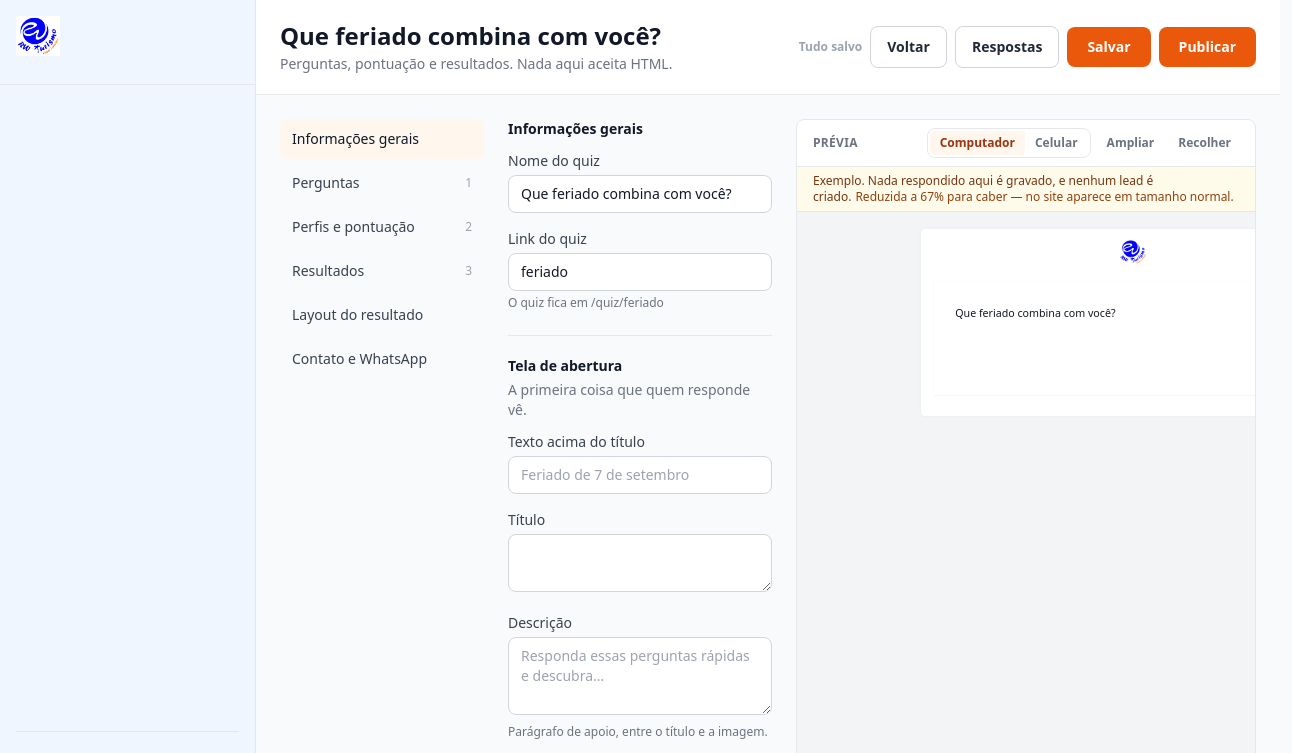
Test case: estados de salvamento › "Salvo" some quando a pessoa volta a editar
Expected: the button "Informações gerais" is shown, [280,119,484,159]
Replace the text in the field labelled "Nome do quiz" with "a" at (640, 194), box [508,175,772,213]
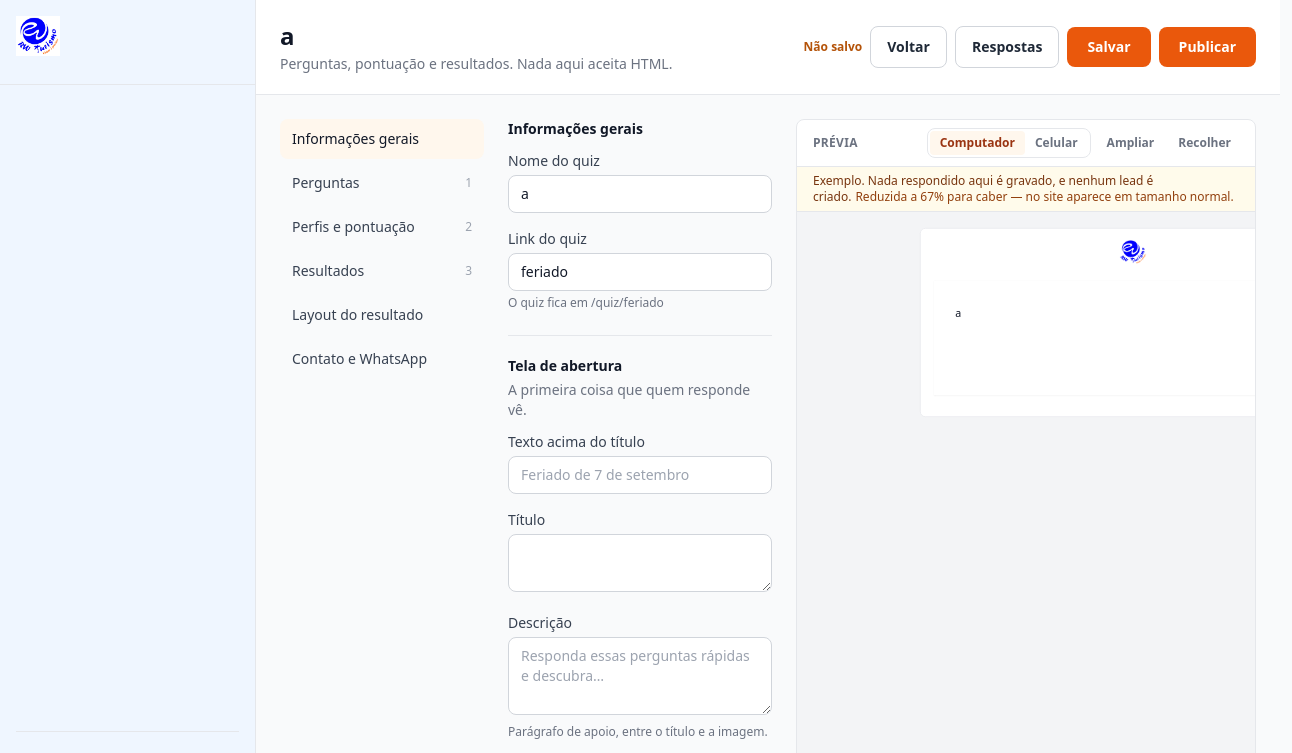
Click the button "Salvar" at (1109, 47), box [1067,27,1151,67]
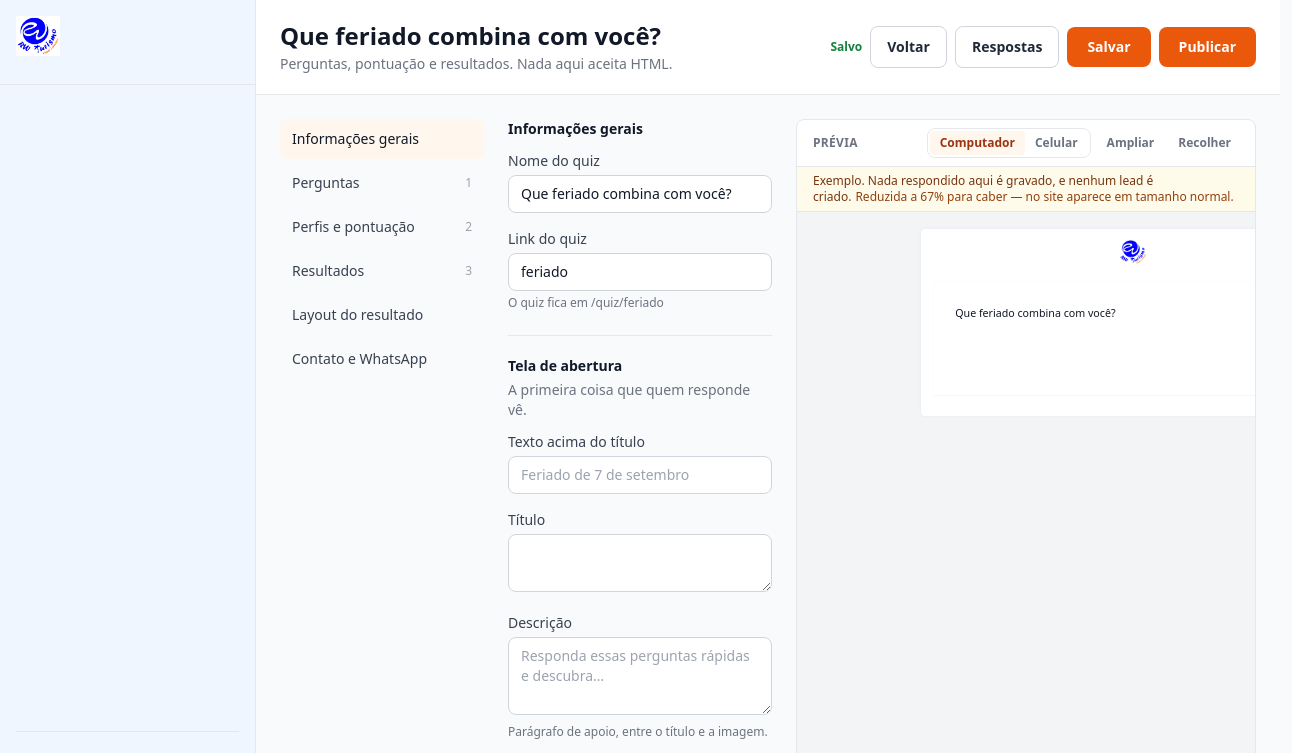
Expected: the text "Salvo" is shown, [830,39,862,55]
Replace the text in the field labelled "Nome do quiz" with "b" at (640, 194), box [508,175,772,213]
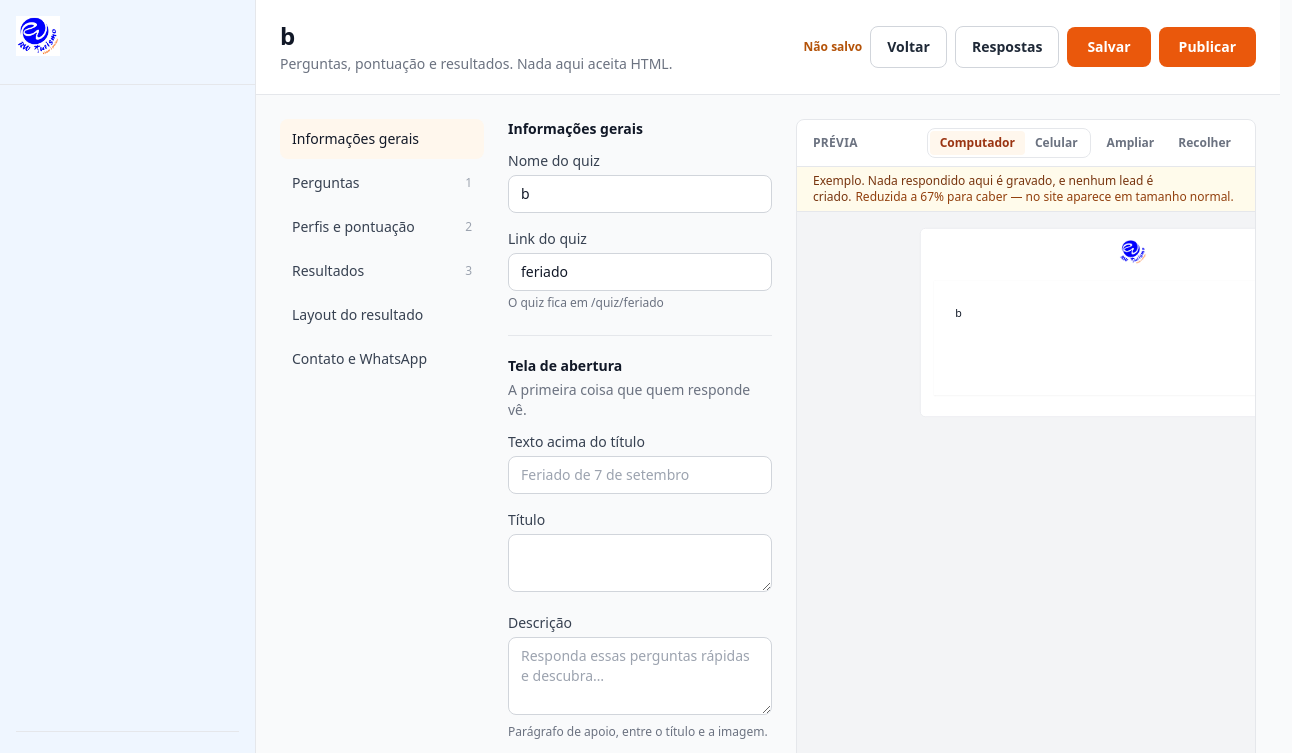
Expected: the text "Não salvo" is shown, [804,39,862,55]
